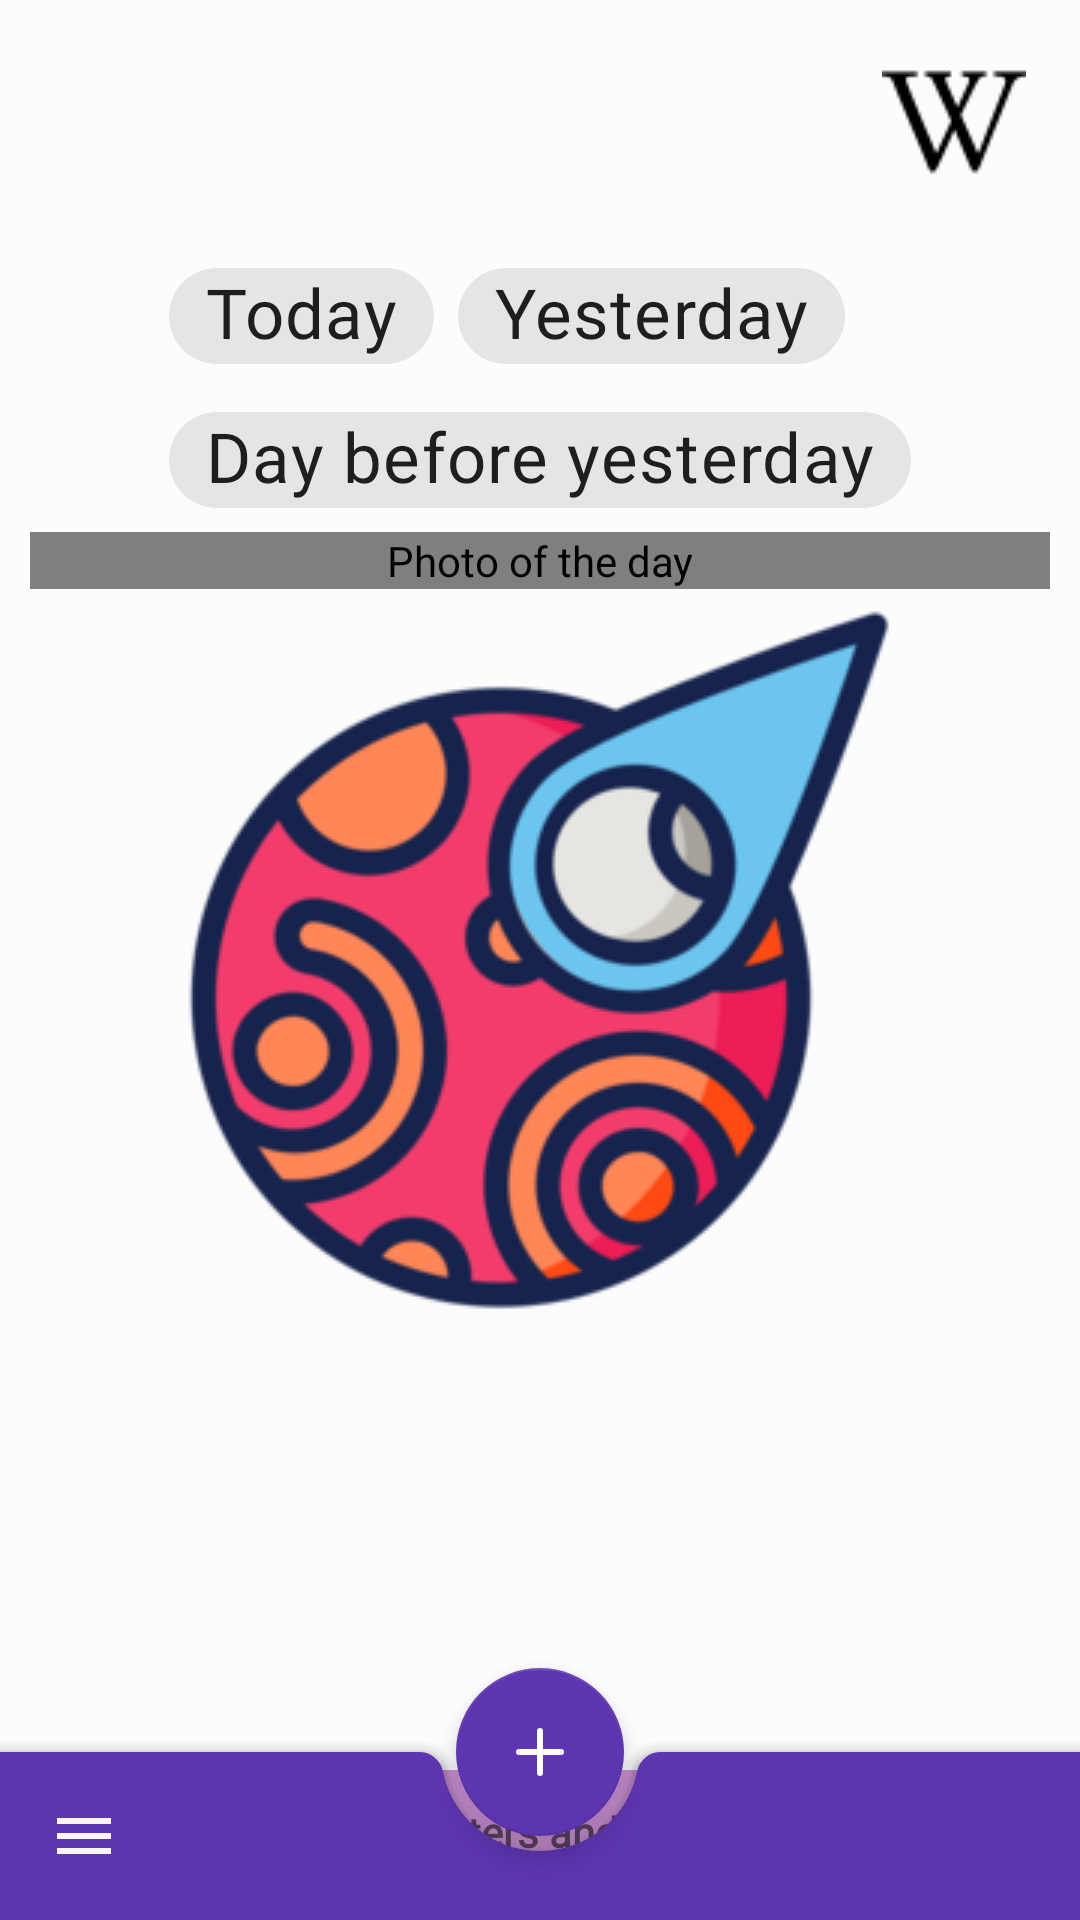

Point at icon controls on the screen. Image size 1080w x 1920h, points as point (x, y).
plus fab: point (540, 1752)
